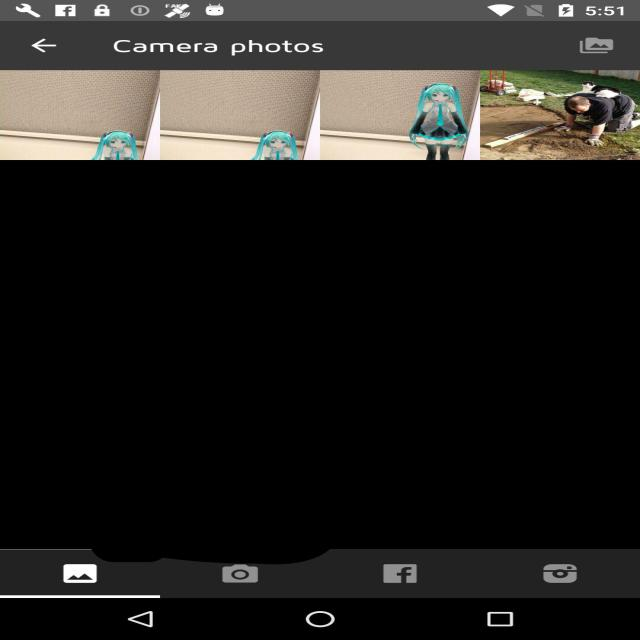privacy zuckering: (85, 291, 364, 564)
